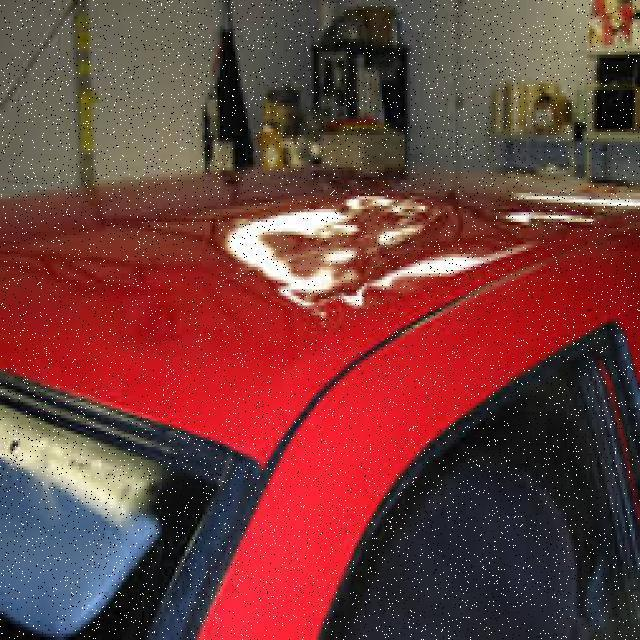roof-dent: (0, 167, 529, 515)
